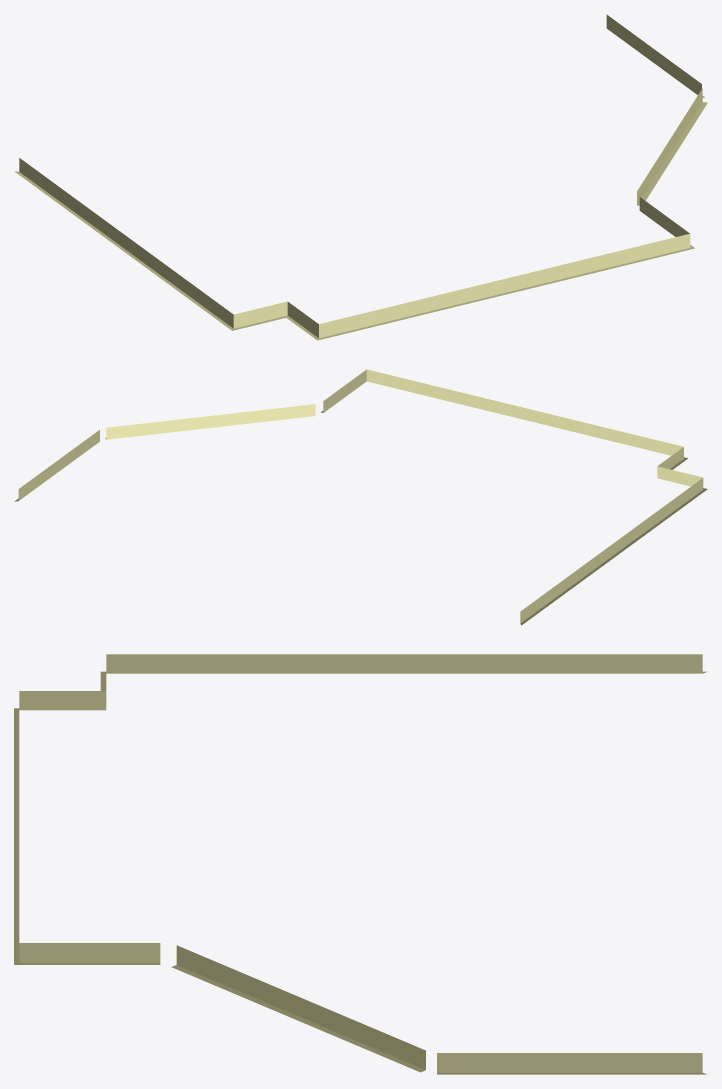
The model's file is 5_material4_cornicioneSoffitto.fbx.
3 views of the same model, one above another, from view 1: azimuth 30°, elevation 25°; view 2: azimuth 150°, elevation 25°; view 3: azimuth 270°, elevation 25° (orthographic). The views are drawn at different scales.
Visible parts, largest first — view 1: 5_material4_1_0_0.002_cornicioneSoffitto; view 2: 5_material4_1_0_0.002_cornicioneSoffitto; view 3: 5_material4_1_0_0.002_cornicioneSoffitto.
Part boxes in pixels (x1,y1,x2,y2): 5_material4_1_0_0.002_cornicioneSoffitto: (14,14,707,340); 5_material4_1_0_0.002_cornicioneSoffitto: (14,369,707,625); 5_material4_1_0_0.002_cornicioneSoffitto: (14,654,706,1074).
Bounding box in the file's own units: 5159 × 117 × 3752.
